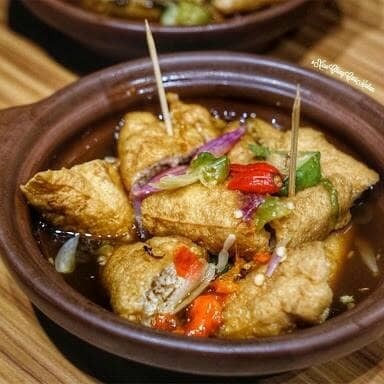tahu_gejrot: (18, 89, 381, 340)
